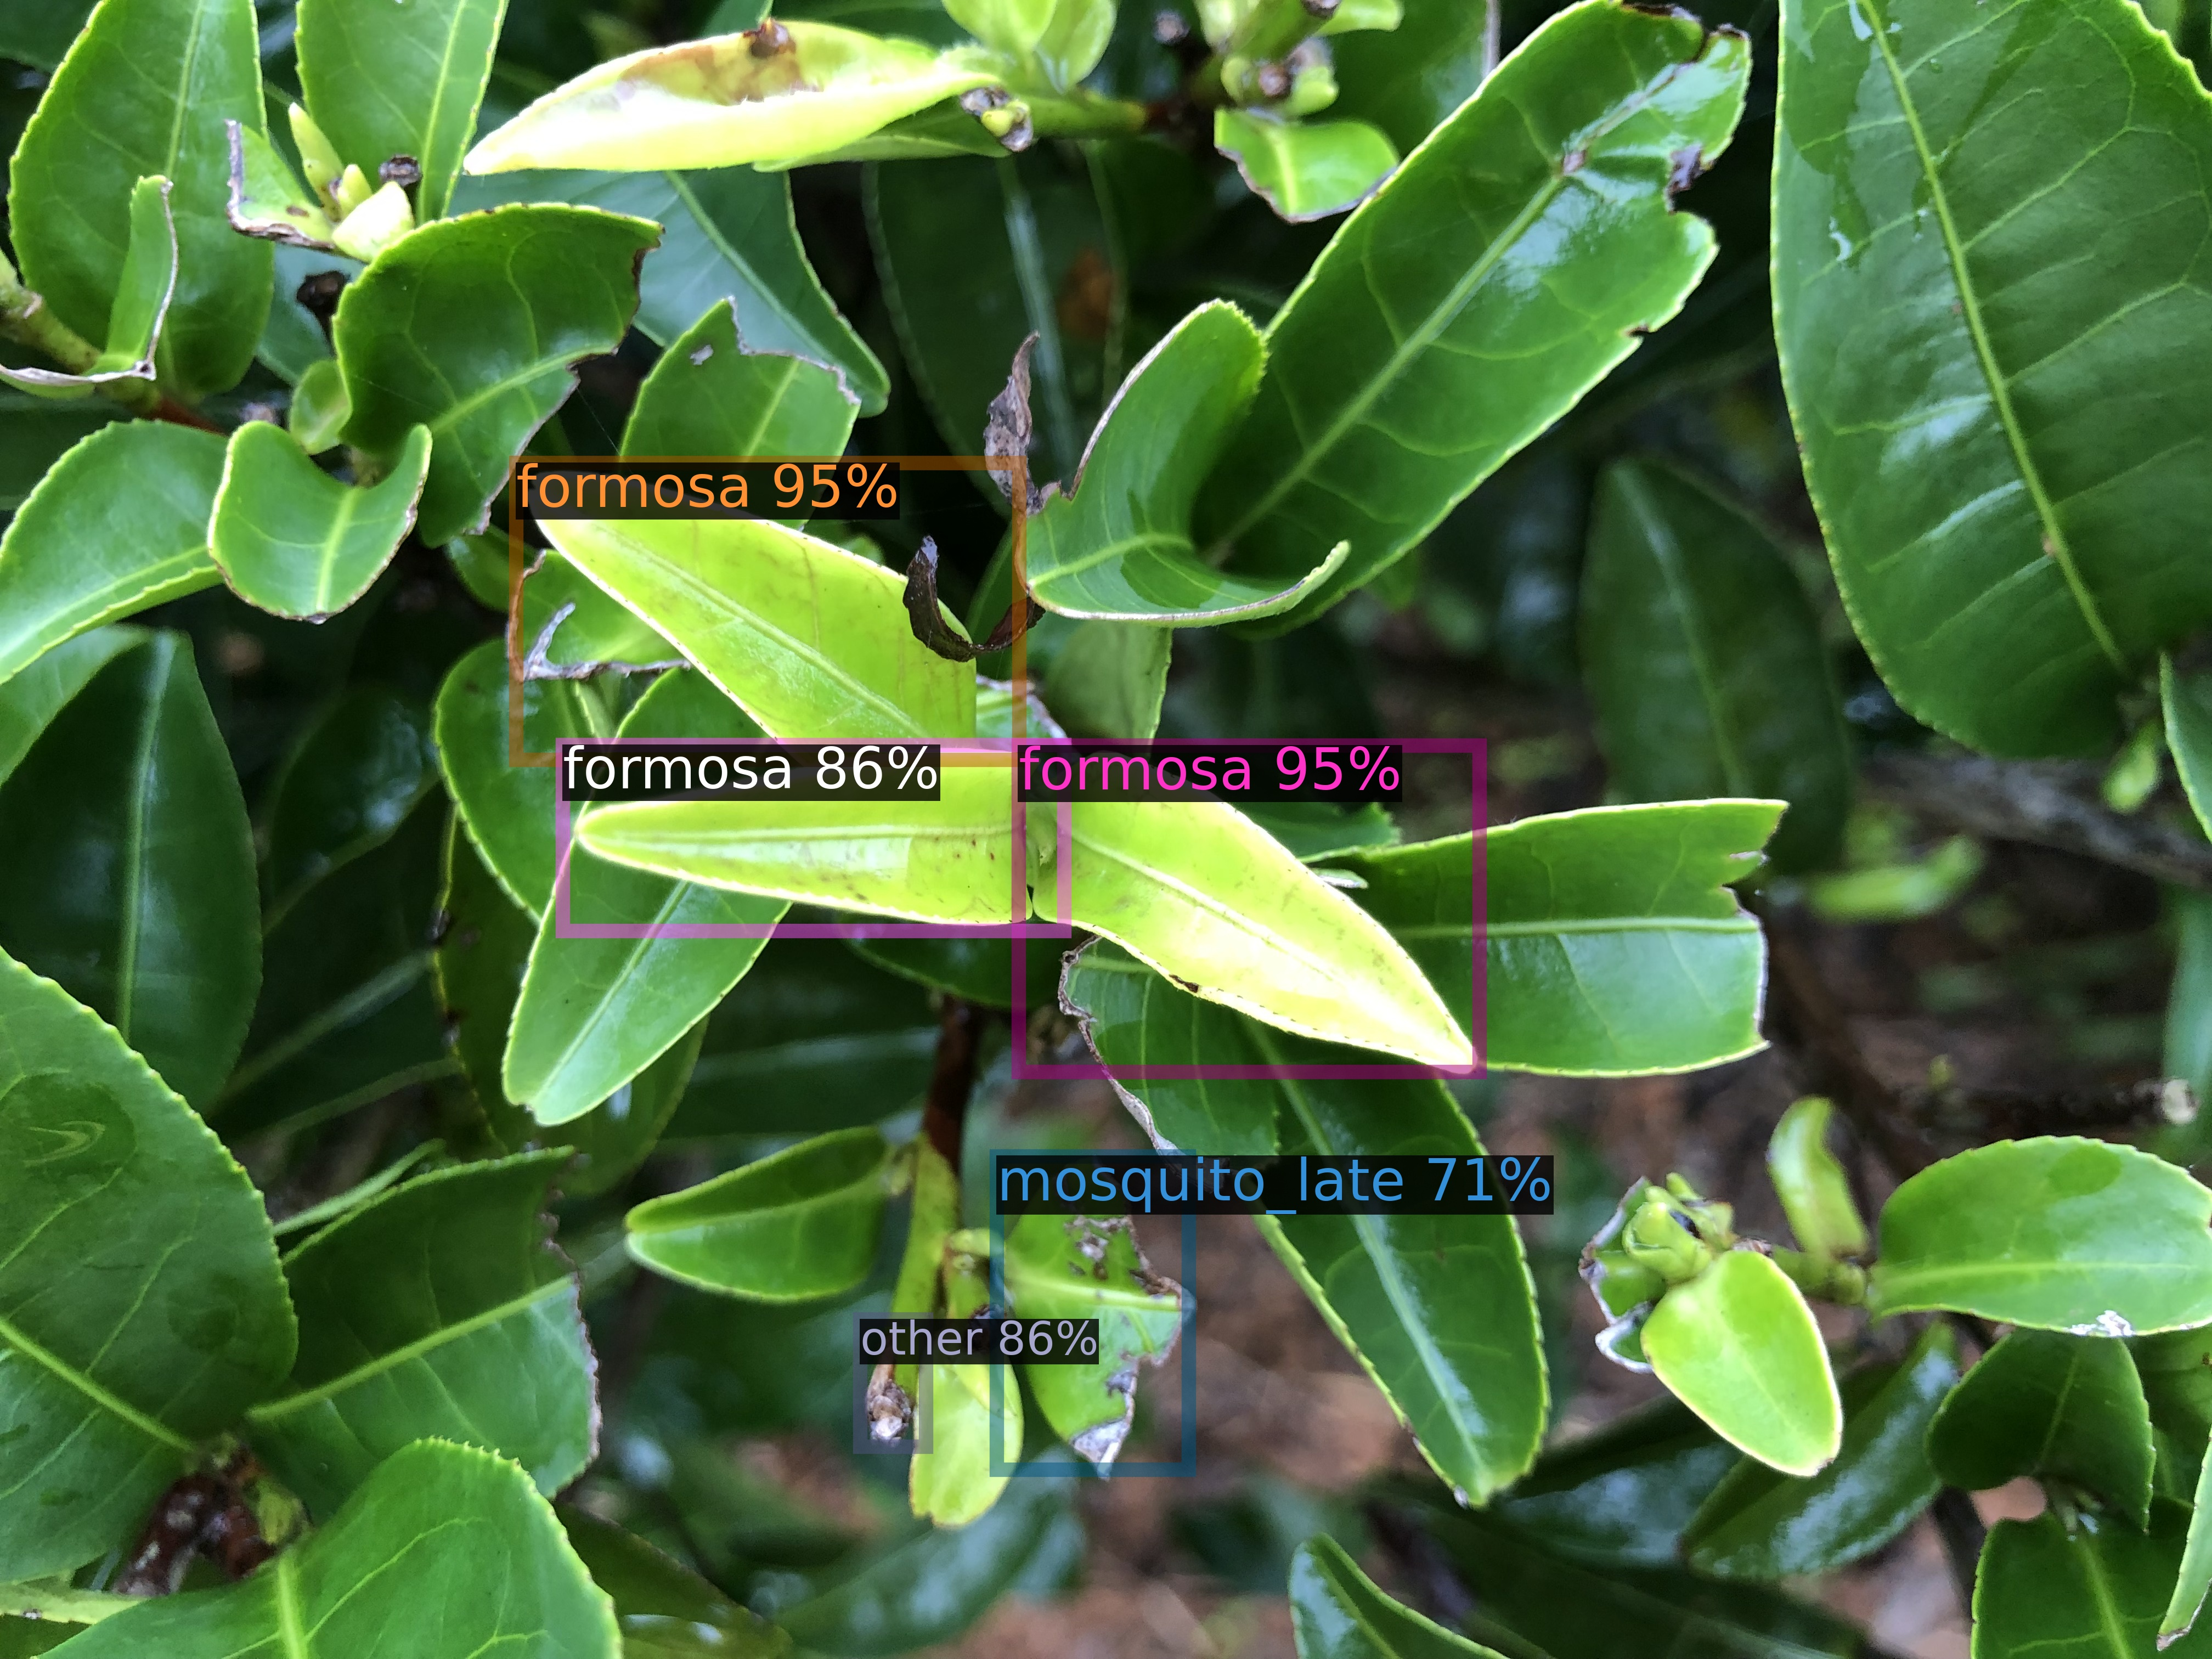formosa: (1019, 746, 1479, 1072), (516, 464, 1019, 760), (563, 744, 1064, 931)
mosquito_late: (996, 1155, 1188, 1469)
other: (860, 1319, 927, 1446)
